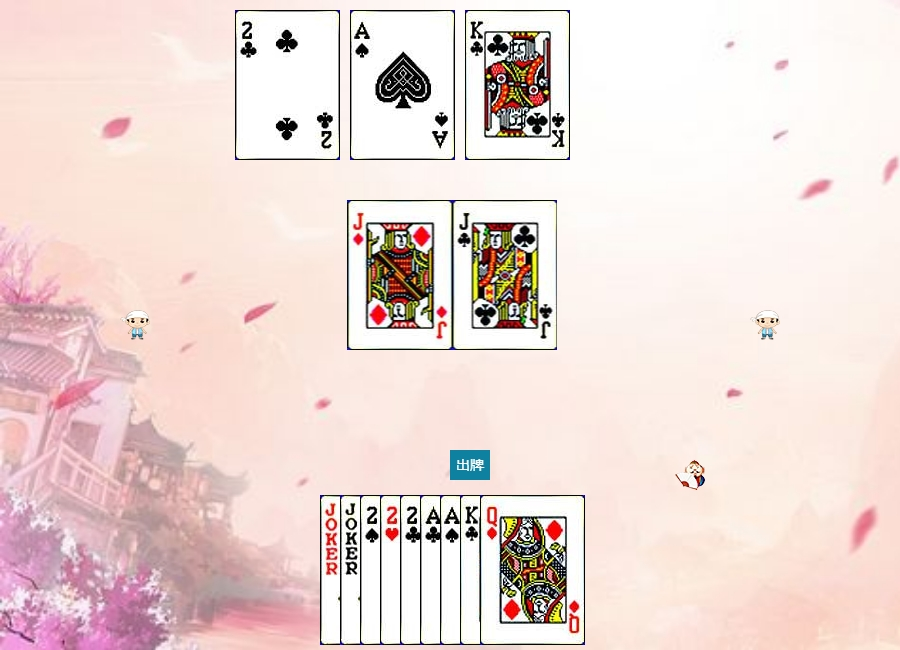11~1: (348, 200, 453, 350)
11~2: (453, 200, 558, 350)
12~1: (480, 495, 585, 645)
13~2: (465, 10, 570, 160), (460, 495, 565, 645)
14~2: (420, 495, 525, 645)
14~4: (350, 10, 455, 160), (440, 495, 545, 645)
15~2: (235, 10, 340, 160), (400, 495, 505, 645)
15~3: (380, 495, 485, 645)
15~4: (360, 495, 465, 645)
17~3: (340, 495, 445, 645)
18~4: (320, 495, 425, 645)
